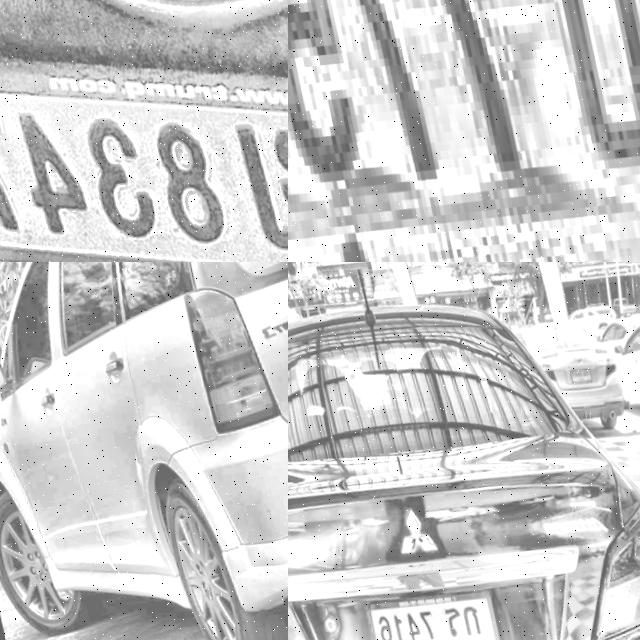license-plate: (288, 0, 640, 262), (0, 0, 288, 262), (358, 575, 503, 640), (564, 355, 593, 381)
